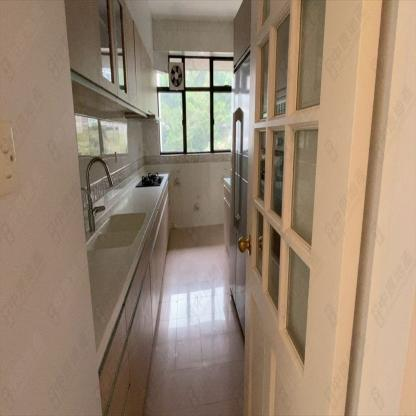Cupboard: (98, 176, 170, 413), (62, 0, 157, 114)
Exhaust Fan: (168, 63, 183, 91)
Exhaust Hood: (124, 113, 160, 122)
Faucet: (79, 154, 111, 224)
Fridge: (231, 54, 249, 335)
Sink: (84, 212, 144, 249)
Stove: (135, 172, 164, 186)
